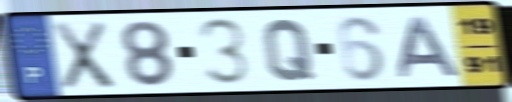3: (196, 15, 253, 88)
6: (335, 13, 388, 84)
8: (119, 18, 178, 89)
A: (396, 14, 464, 79)
Q: (260, 17, 317, 84)
X: (50, 19, 117, 92)
